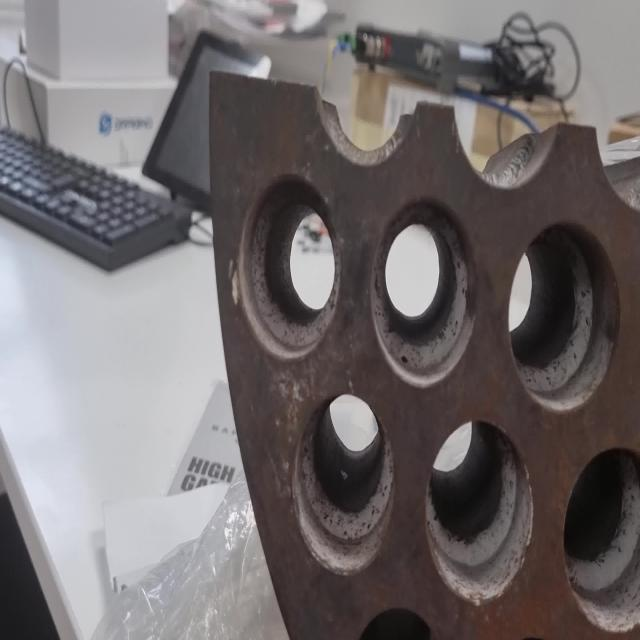Hole: (508, 218, 620, 413), (368, 194, 478, 387), (424, 415, 535, 605), (232, 173, 342, 360), (292, 392, 396, 576), (562, 446, 640, 634)
